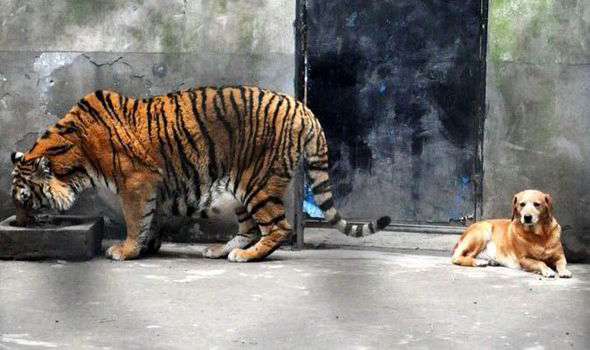dog: (454, 187, 574, 278)
tiger: (2, 84, 334, 258)
